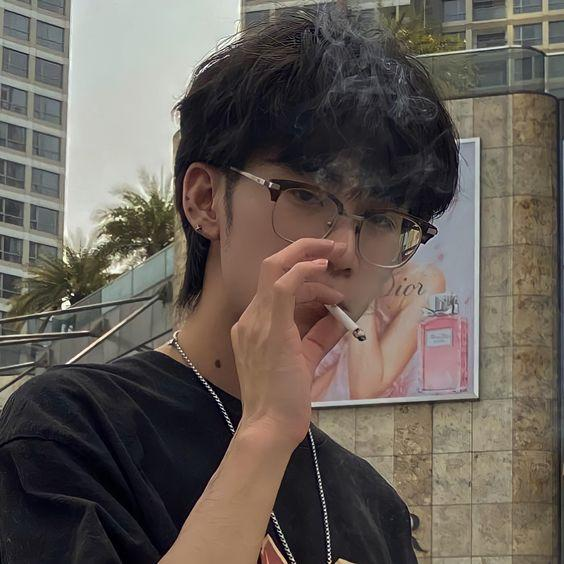cigarette: (322, 303, 366, 341)
